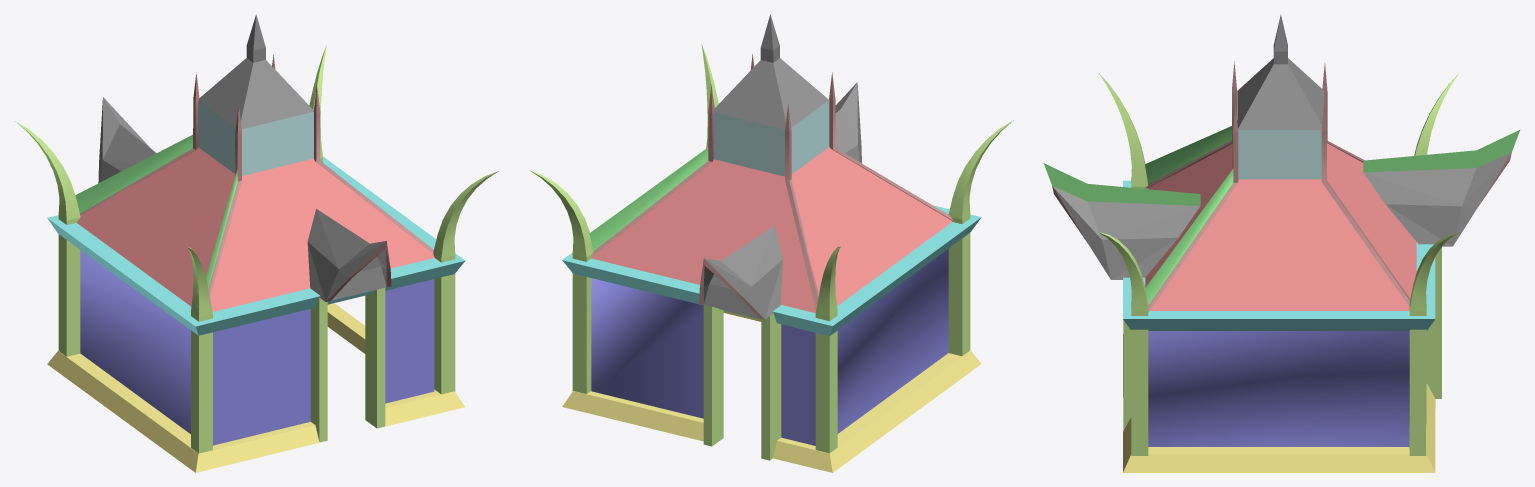
Rendered from topcage_02.gltf.
The picture shows the model from 3 angles, left to right: view 1: azimuth 30°, elevation 25°; view 2: azimuth 150°, elevation 25°; view 3: azimuth 270°, elevation 25°; orthographic projection. The views are drawn at different scales.
Parts seen in each view (by area): view 1: topcage_02; view 2: topcage_02; view 3: topcage_02.
Part boxes in pixels (x1,y1,x2,y2): topcage_02: [15, 14, 498, 472]; topcage_02: [529, 14, 1013, 472]; topcage_02: [1043, 14, 1520, 472].
Bounding box in the file's own units: 17.87 × 20.27 × 22.47.
